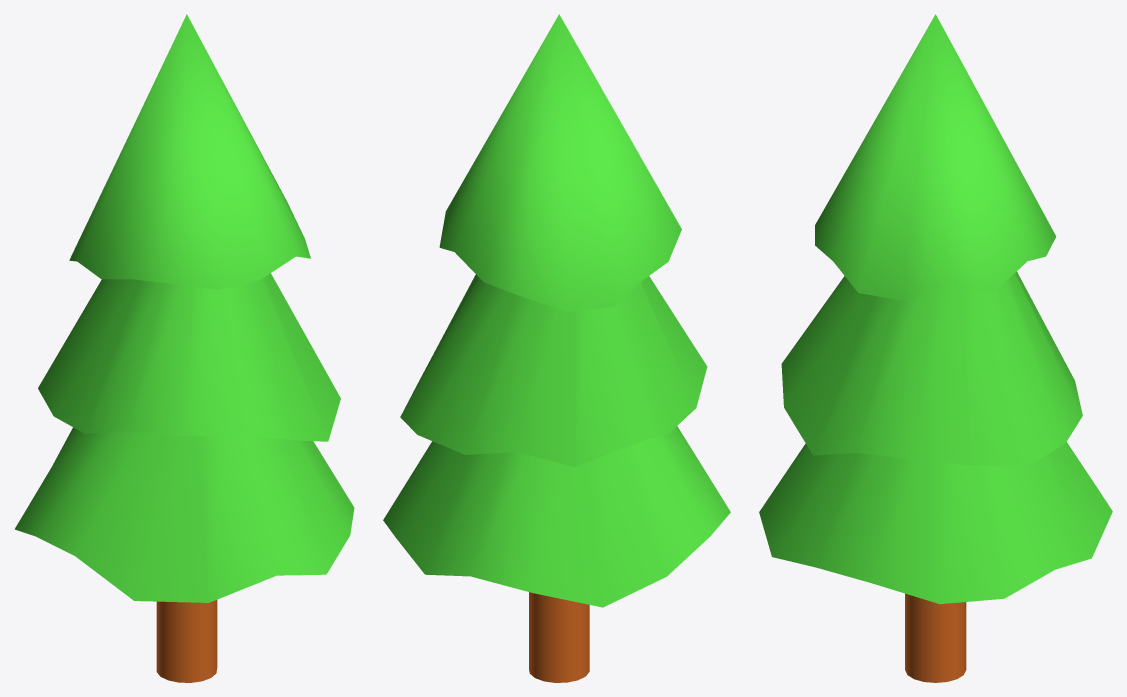
Rendered from Tree1.fbx.
3 renders of one model, left to right at view 1: azimuth 30°, elevation 25°; view 2: azimuth 150°, elevation 25°; view 3: azimuth 270°, elevation 25°, orthographic.
Visible parts, largest first — view 1: Cylinder.001; view 2: Cylinder.001; view 3: Cylinder.001.
Part boxes in pixels (x1,y1,x2,y2): Cylinder.001: (14,14,354,682); Cylinder.001: (383,14,730,682); Cylinder.001: (759,14,1112,682).
Bounding box in the file's own units: 122 × 251 × 123.
